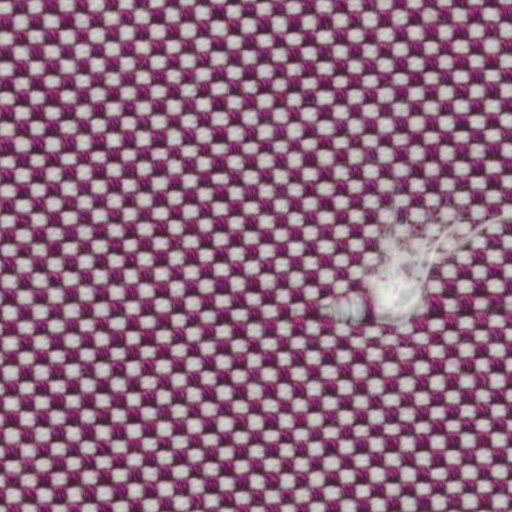DuanSha: (321, 204, 494, 346)
